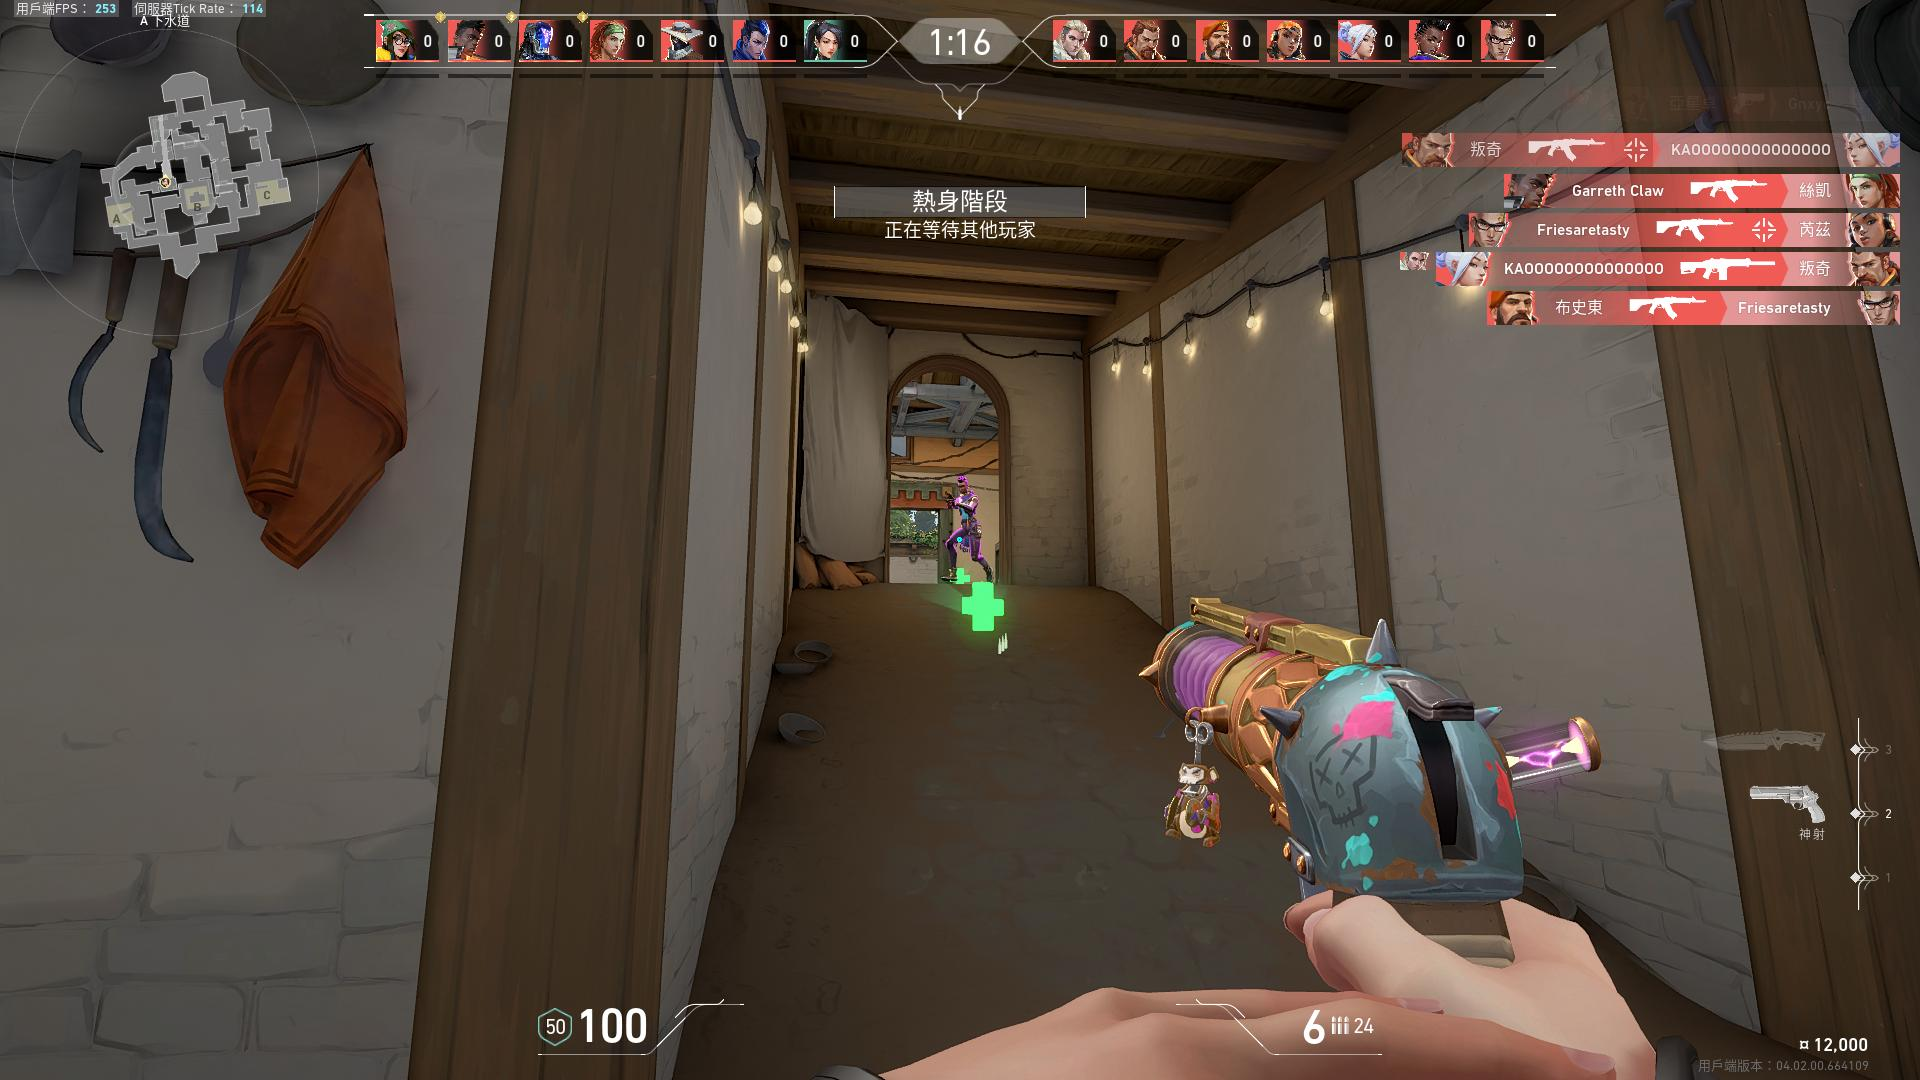enemyBody: (961, 498, 971, 526)
enemyHead: (960, 483, 967, 493)
